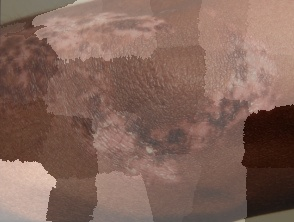vitiligo: (0, 4, 294, 202)
